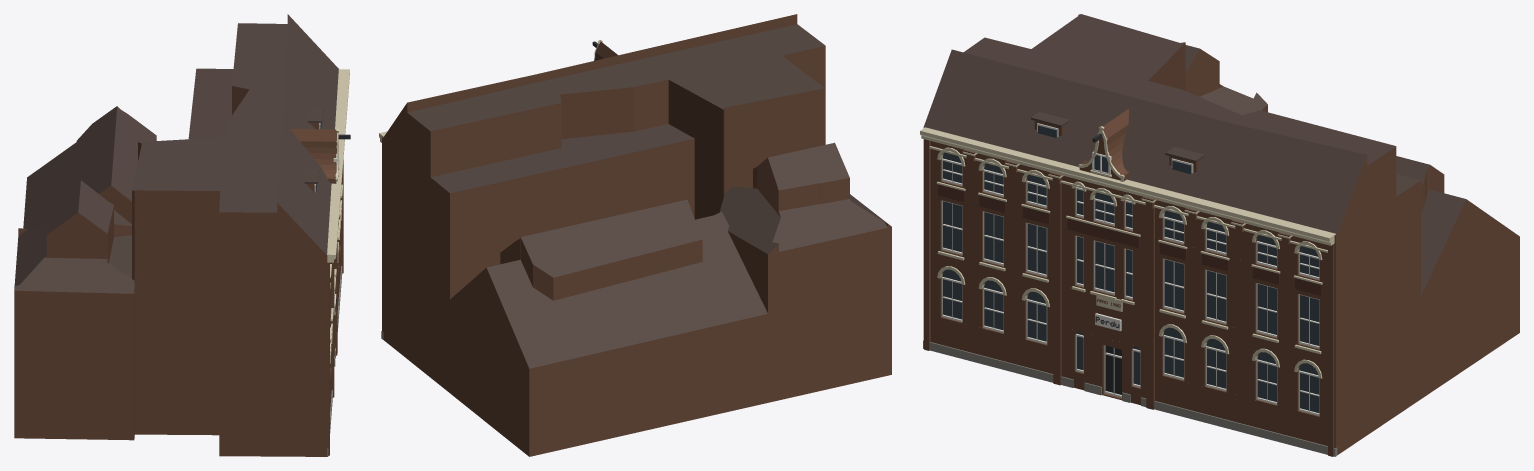
Rendered from perdu.glb.
The picture shows the model from 3 angles, left to right: view 1: azimuth 30°, elevation 25°; view 2: azimuth 150°, elevation 25°; view 3: azimuth 270°, elevation 25°; orthographic projection. The views are drawn at different scales.
Visible parts, largest first — view 1: perdu; view 2: perdu; view 3: perdu.
Part boxes in pixels (bbox=[...]): perdu: bbox=[14, 14, 350, 456]; perdu: bbox=[379, 14, 891, 456]; perdu: bbox=[920, 14, 1519, 456].
Size of the model in its own units: 26.96 by 15.55 by 30.12.
